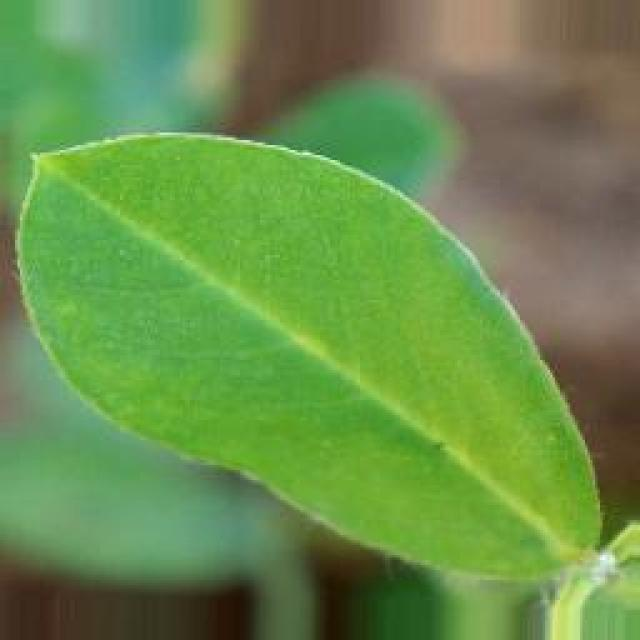Yellow_and_black_sigatoka: (5, 120, 624, 590)
